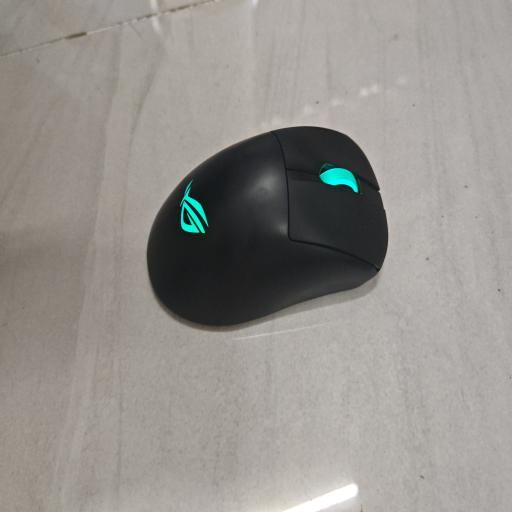mouse: (147, 126, 388, 326)
